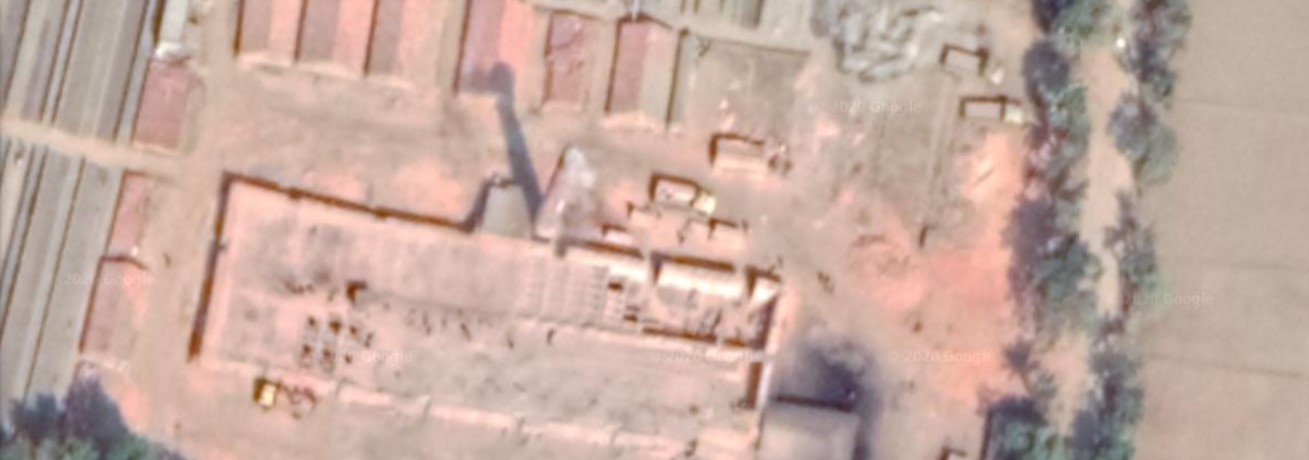kiln: (210, 44, 814, 416)
